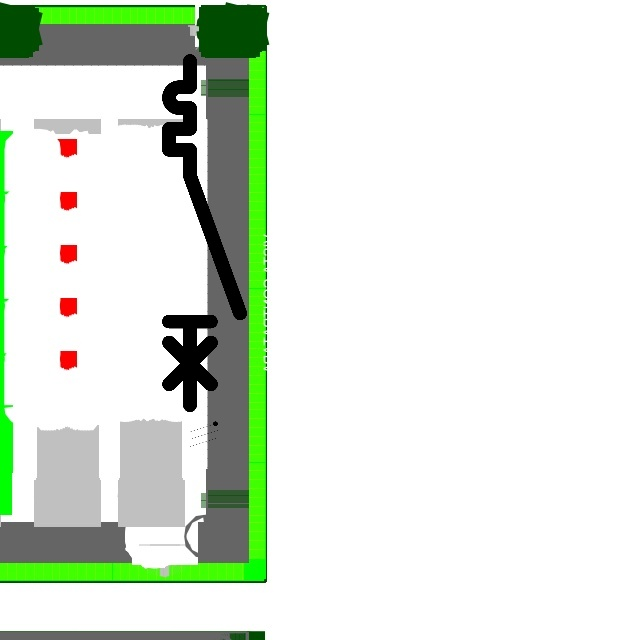interruptor_termomagnetico: (160, 52, 248, 414)
